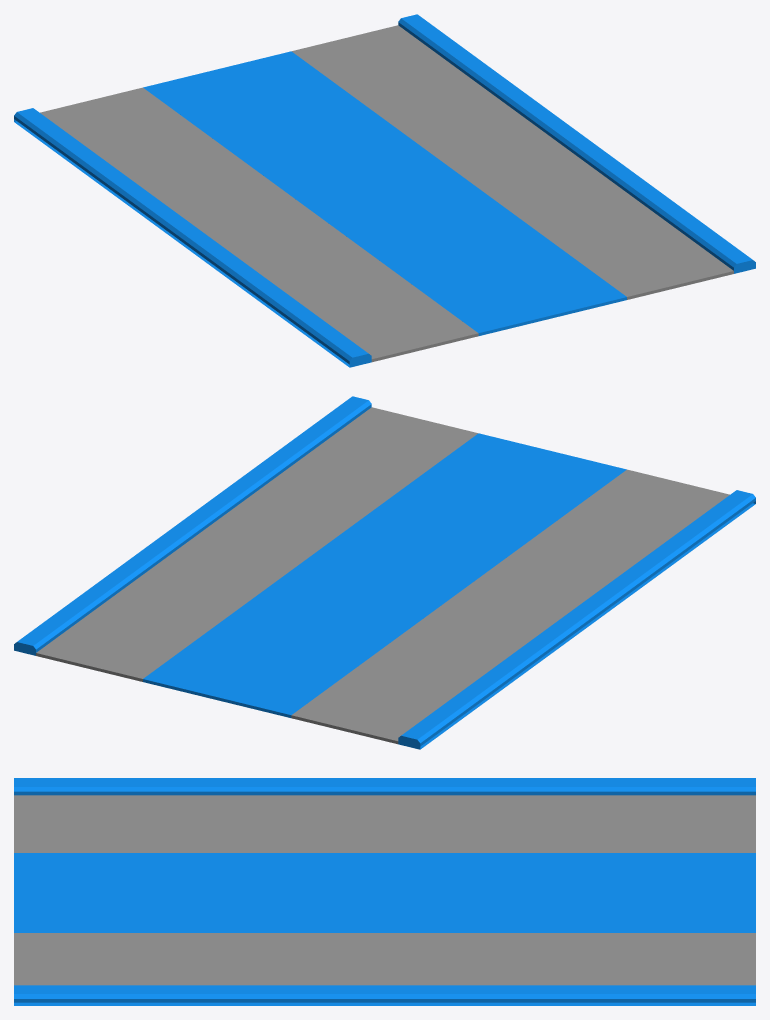
File: asd 1.FBX
The picture shows the model from 3 angles, top to bottom: view 1: azimuth 30°, elevation 25°; view 2: azimuth 150°, elevation 25°; view 3: azimuth 270°, elevation 25°; orthographic projection. The views are drawn at different scales.
Visible parts, largest first — view 1: Plane002; view 2: Plane002; view 3: Plane002.
Part boxes in pixels (x1=…): Plane002: x1=14, y1=14, x2=755, y2=367; Plane002: x1=14, y1=396, x2=755, y2=749; Plane002: x1=14, y1=778, x2=755, y2=1005.
Size of the model in its own units: 0.1904 by 0.00419 by 0.2726.
